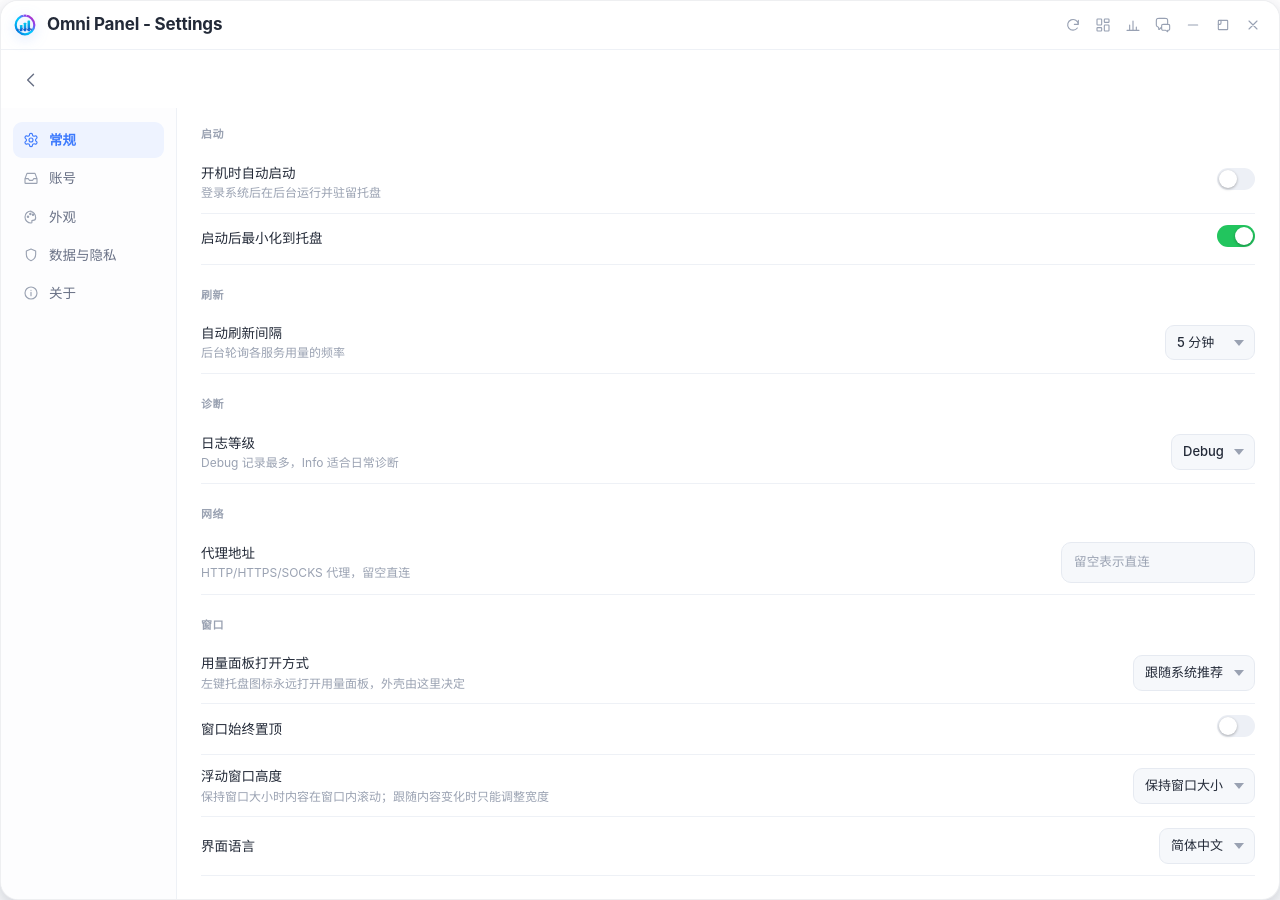
SettingsView › exports runtime logs from data settings
What coordinates should you click on to do the following:
click the button with test id "settings-plugin-nav-data"
I would click on:
 (88, 255)
Its box is x1=13 y1=237 x2=164 y2=273.
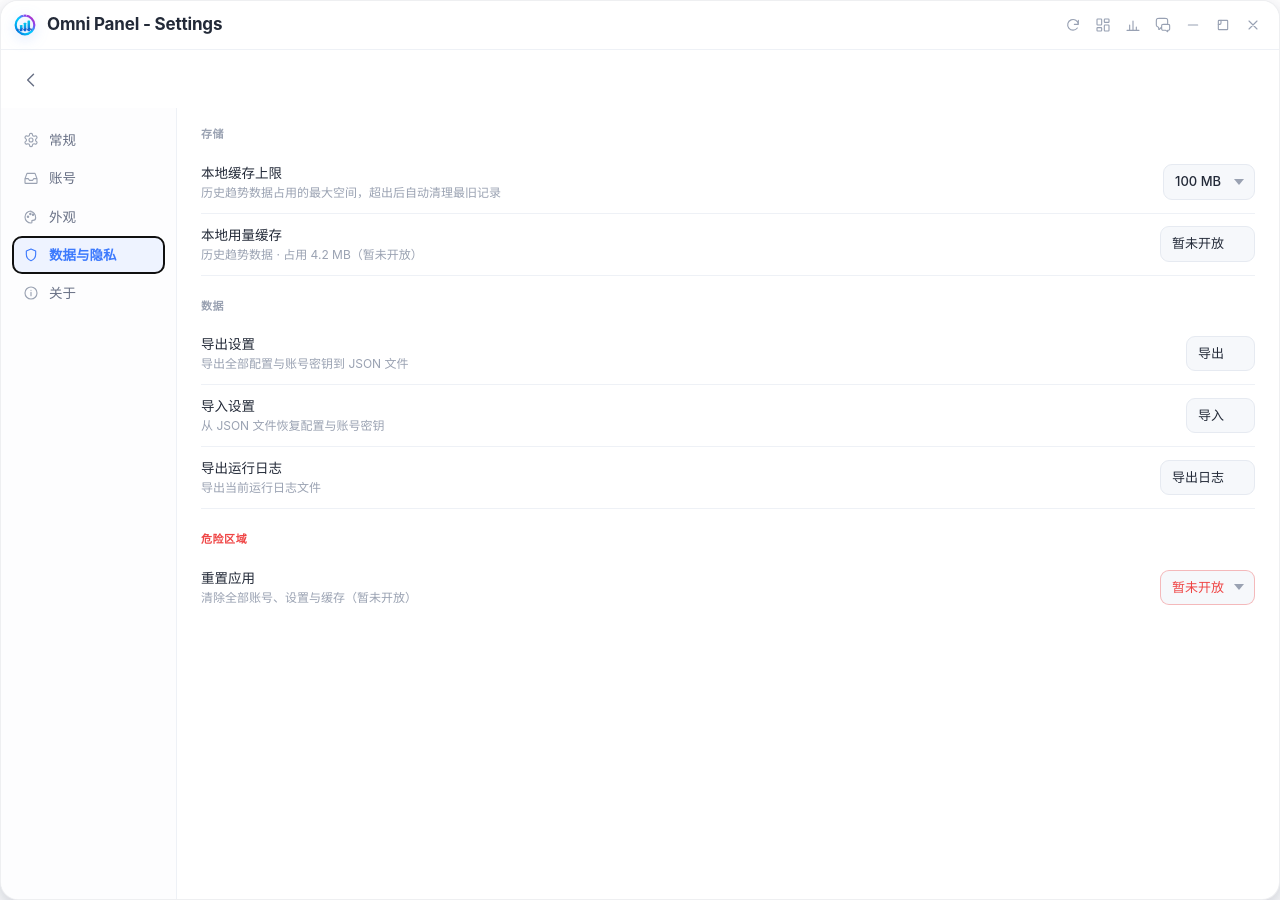
What coordinates should you click on to do the following:
click the button "导出日志"
I would click on:
 (1208, 478)
Its box is x1=1160 y1=460 x2=1255 y2=496.
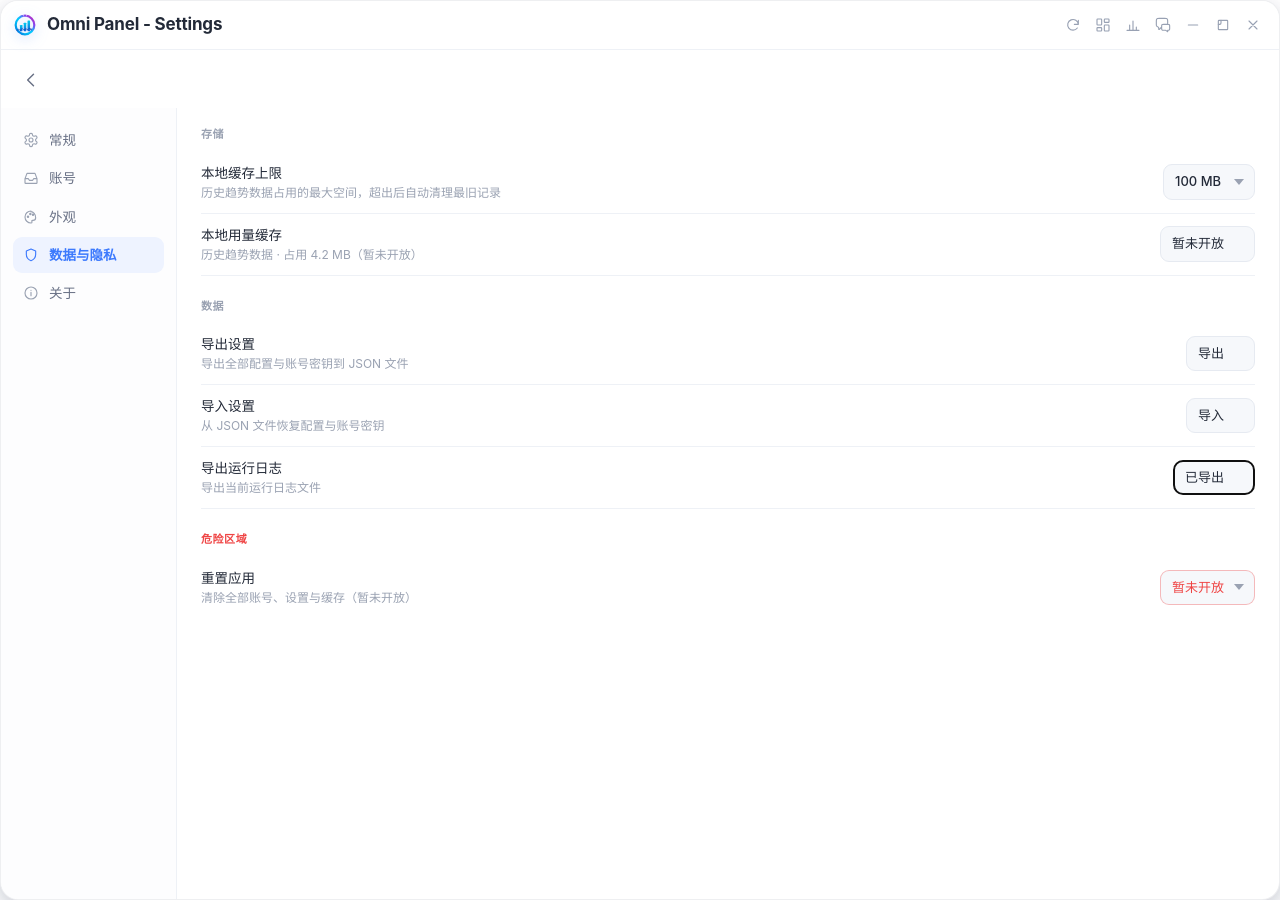
Check: the button "已导出" is shown, box x1=1173 y1=460 x2=1255 y2=496
